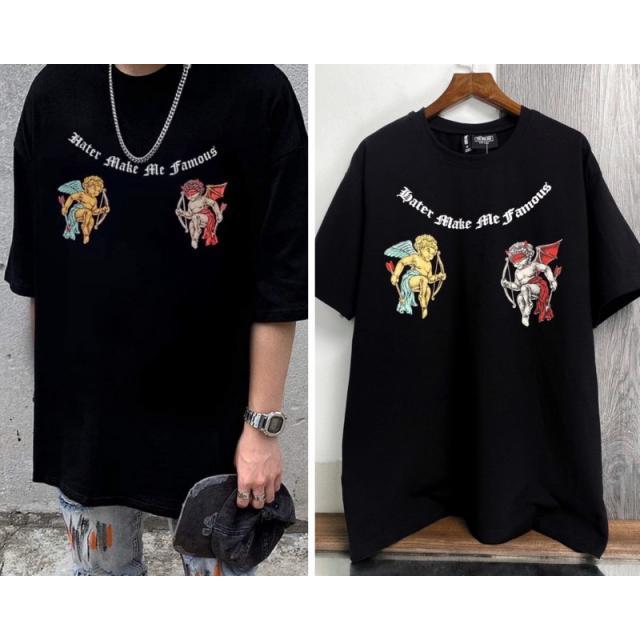Shirt: (314, 103, 640, 554), (7, 61, 314, 507)
